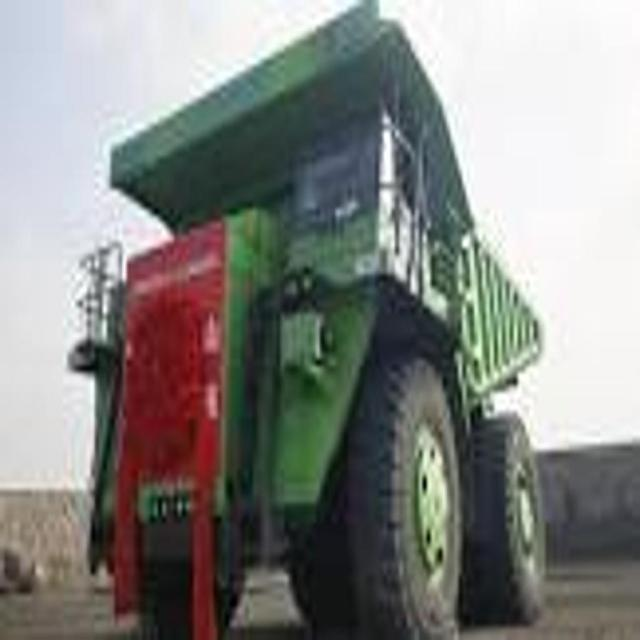dump_truck: (68, 0, 543, 640)
